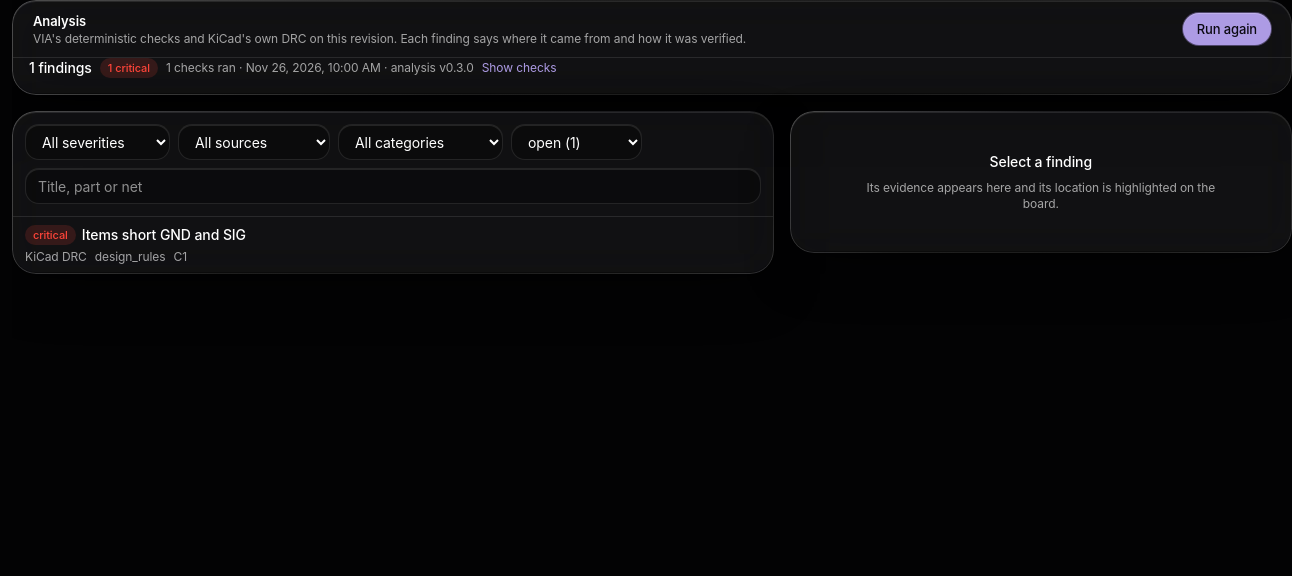
Test: AnalysisPanel › lists findings, shows evidence with its source, and highlights the finding on the board
The width and height of the screenshot is (1292, 576).
Click the button "critical Items short GND and SIG KiCad DRC design_rules C1" at (50, 235), box x1=13 y1=217 x2=773 y2=273
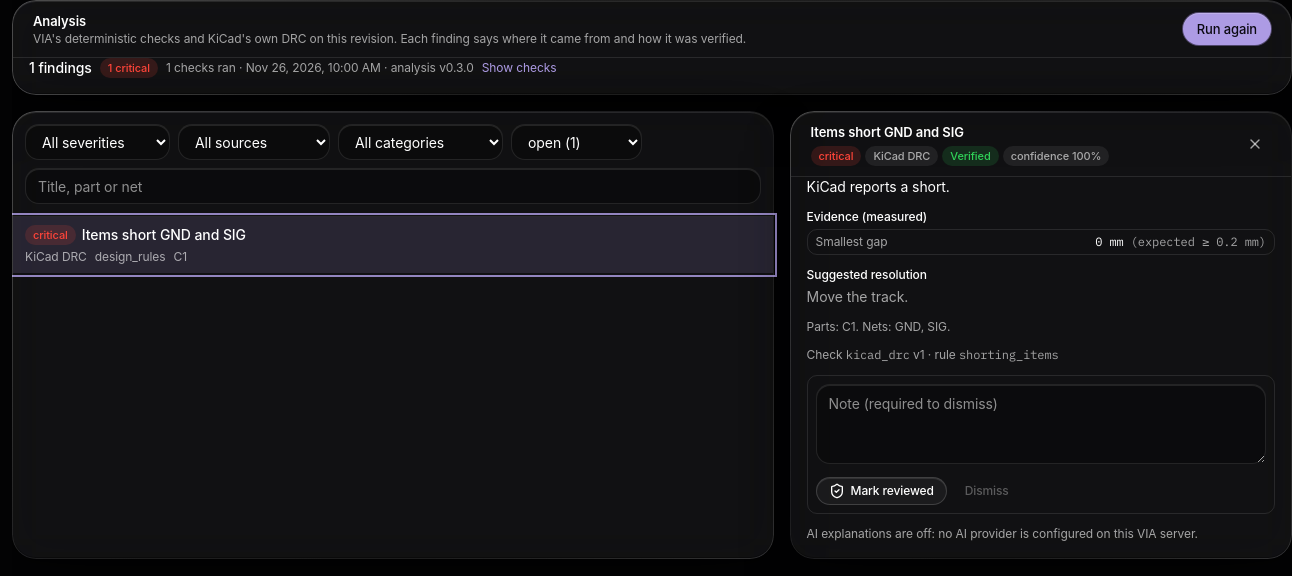
Now the element named "Finding details" shows "KiCad DRC", box x1=873 y1=149 x2=930 y2=163
Now the element named "Finding details" shows "Verified", box x1=950 y1=149 x2=991 y2=163
Now the element named "Finding details" shows "Smallest gap", box x1=816 y1=234 x2=887 y2=249
